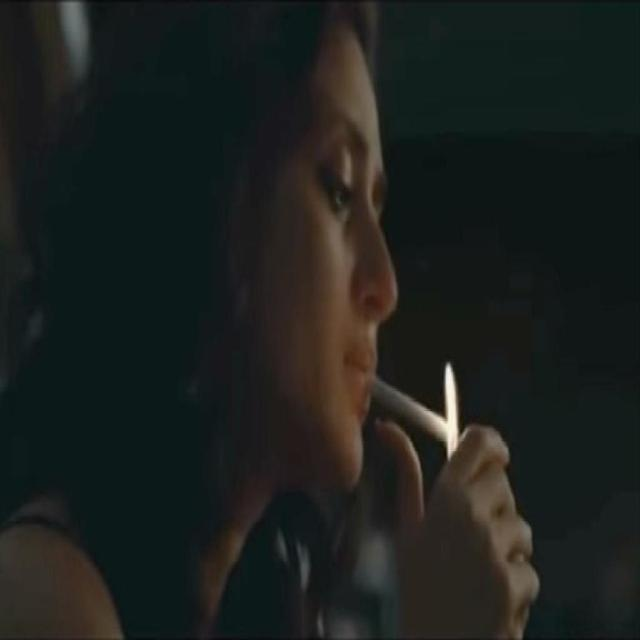smoking: (200, 1, 498, 502)
